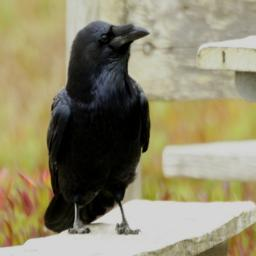Crow: (43, 19, 153, 236)
